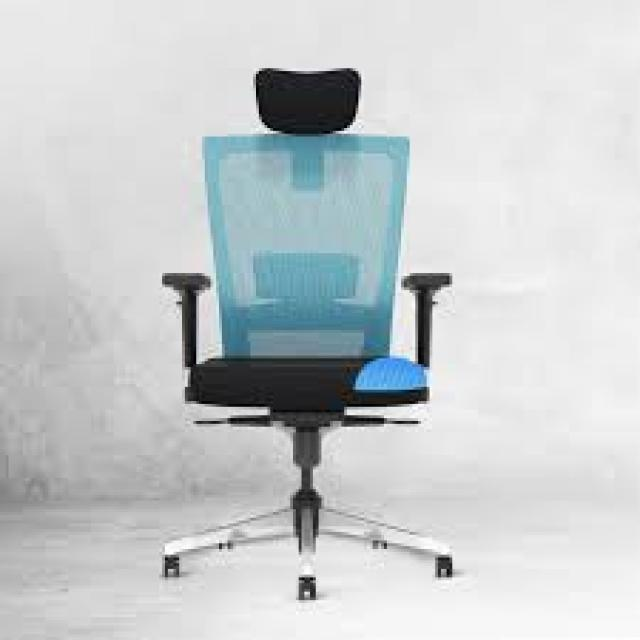chair: (70, 35, 514, 640)
